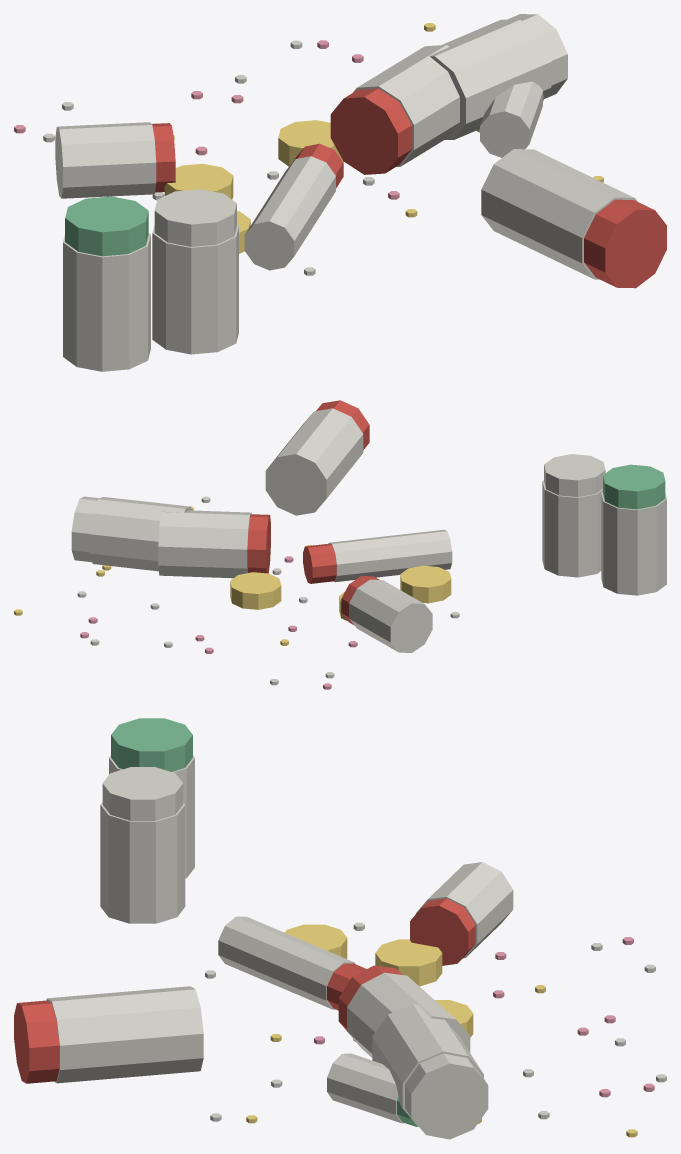
File: pill_bottles_broken.fbx
3 views of the same model, one above another, from view 1: azimuth 30°, elevation 25°; view 2: azimuth 150°, elevation 25°; view 3: azimuth 270°, elevation 25° (orthographic). The views are drawn at different scales.
Parts seen in each view (by area): view 1: pill_bottles_broken_debris, pill_bottles_broken; view 2: pill_bottles_broken_debris, pill_bottles_broken; view 3: pill_bottles_broken_debris, pill_bottles_broken.
Part boxes in pixels (bbox=[...]): pill_bottles_broken_debris: bbox=[14, 14, 666, 288]; pill_bottles_broken: bbox=[63, 189, 238, 371]; pill_bottles_broken_debris: bbox=[14, 400, 459, 689]; pill_bottles_broken: bbox=[542, 454, 666, 595]; pill_bottles_broken_debris: bbox=[14, 862, 666, 1139]; pill_bottles_broken: bbox=[100, 718, 194, 923].
Bounding box in the file's own units: 62.72 × 13.11 × 58.5.
